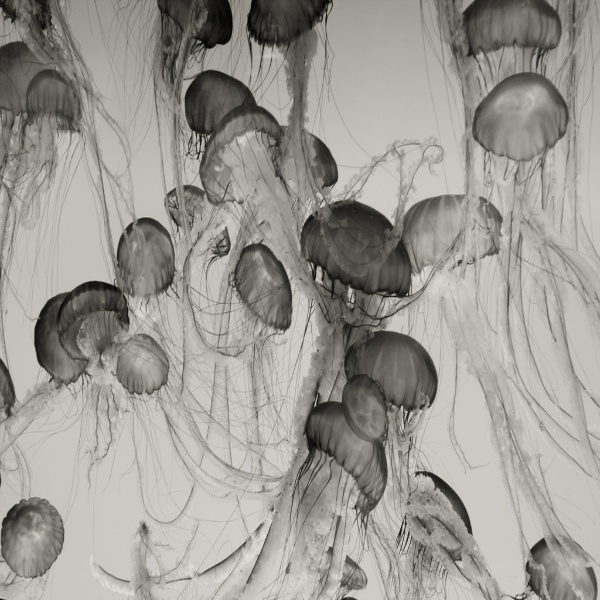Jellyfish: (0, 0, 599, 599), (113, 205, 180, 307)
